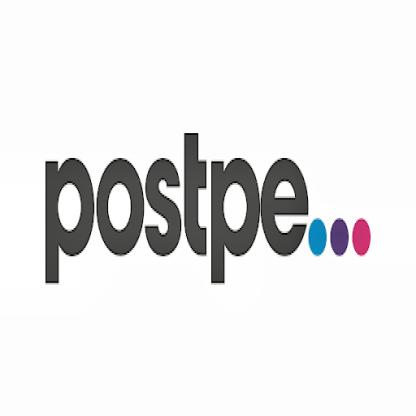Postpe: (46, 132, 309, 288)
